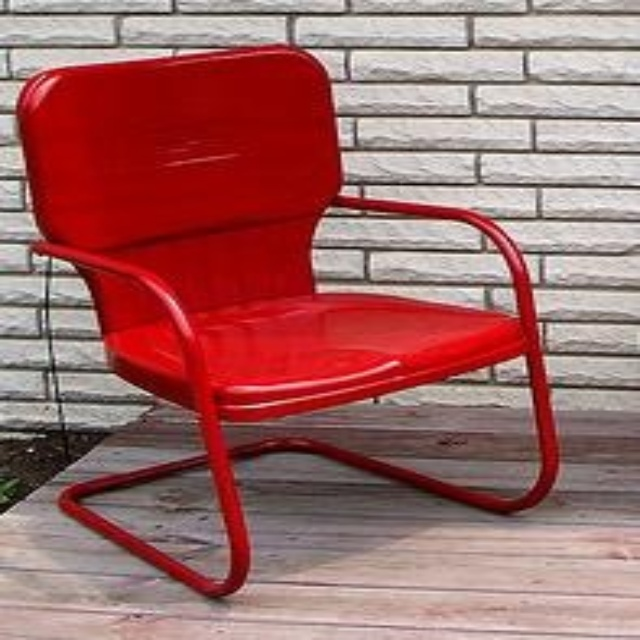obstacle: (16, 44, 556, 594)
